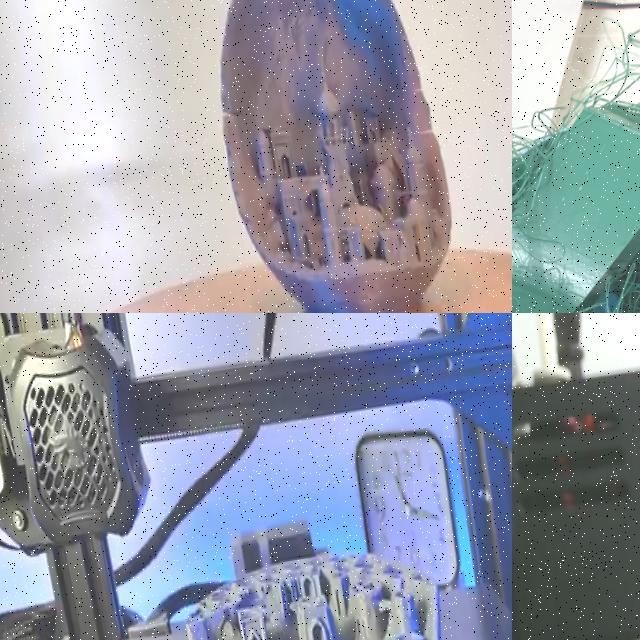spaghetti: (576, 4, 640, 175), (512, 110, 560, 277)
